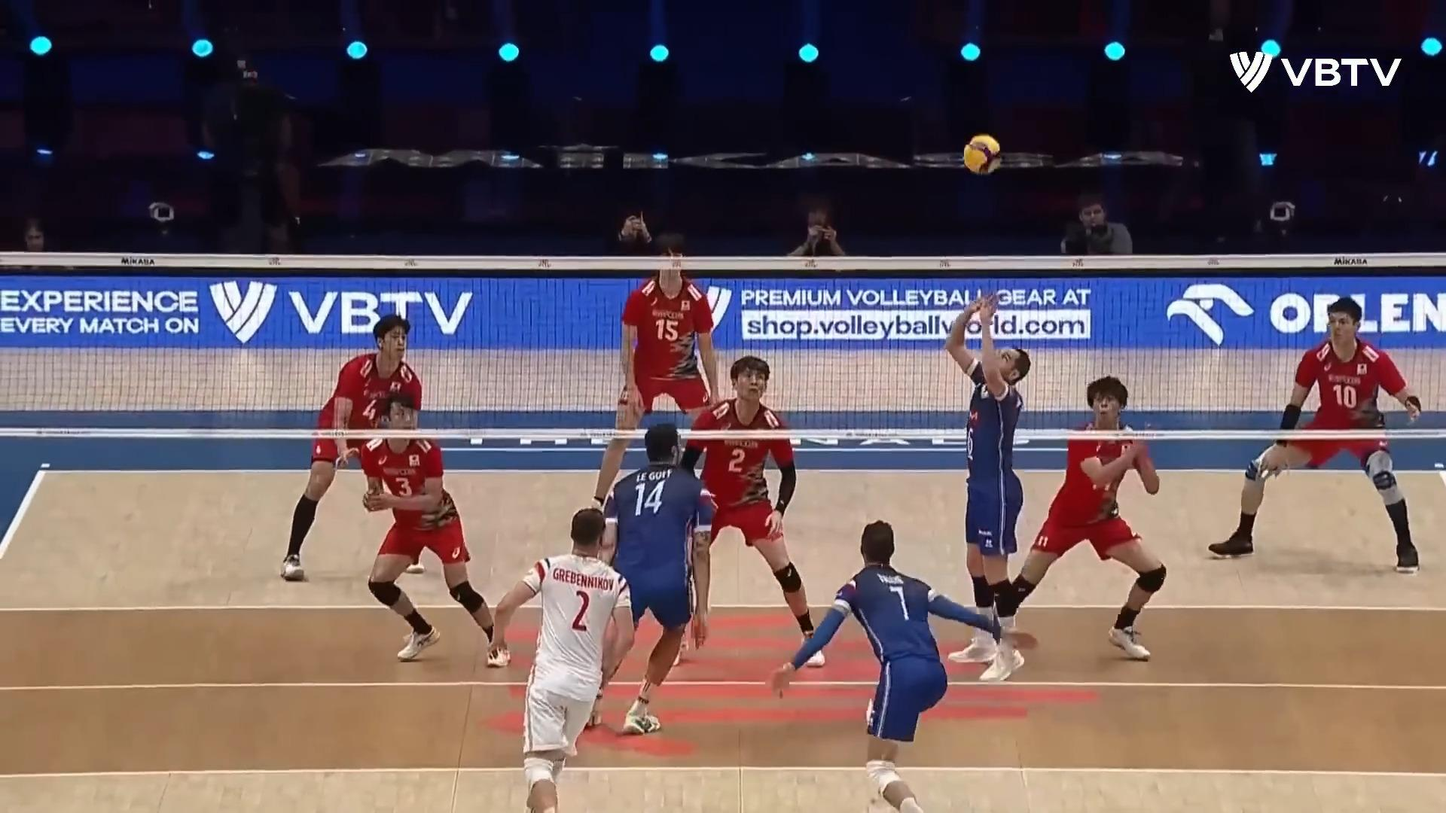ball: (962, 135, 1006, 175)
